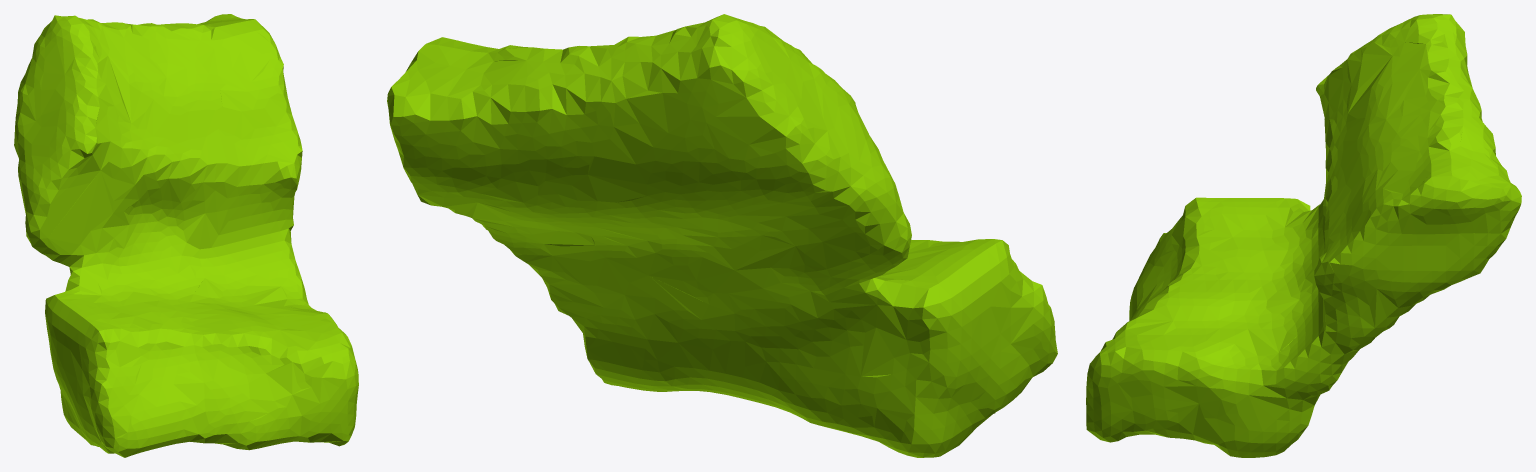
The model's file is Model_79_RH__Auditory_cortex__caudal_parabelt_area_(AuCPB).obj.
3 views of the same model, side by side, from view 1: azimuth 30°, elevation 25°; view 2: azimuth 150°, elevation 25°; view 3: azimuth 270°, elevation 25° (orthographic). The views are drawn at different scales.
Size of the model in its own units: 2.67 by 2.87 by 3.1.
